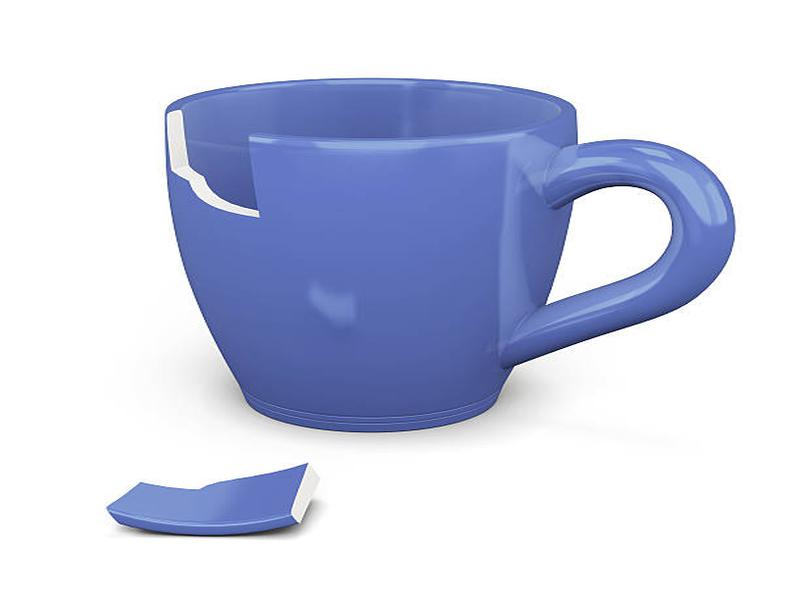cup: (161, 66, 737, 445)
